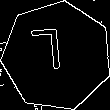L_S: (39, 30, 75, 83)
